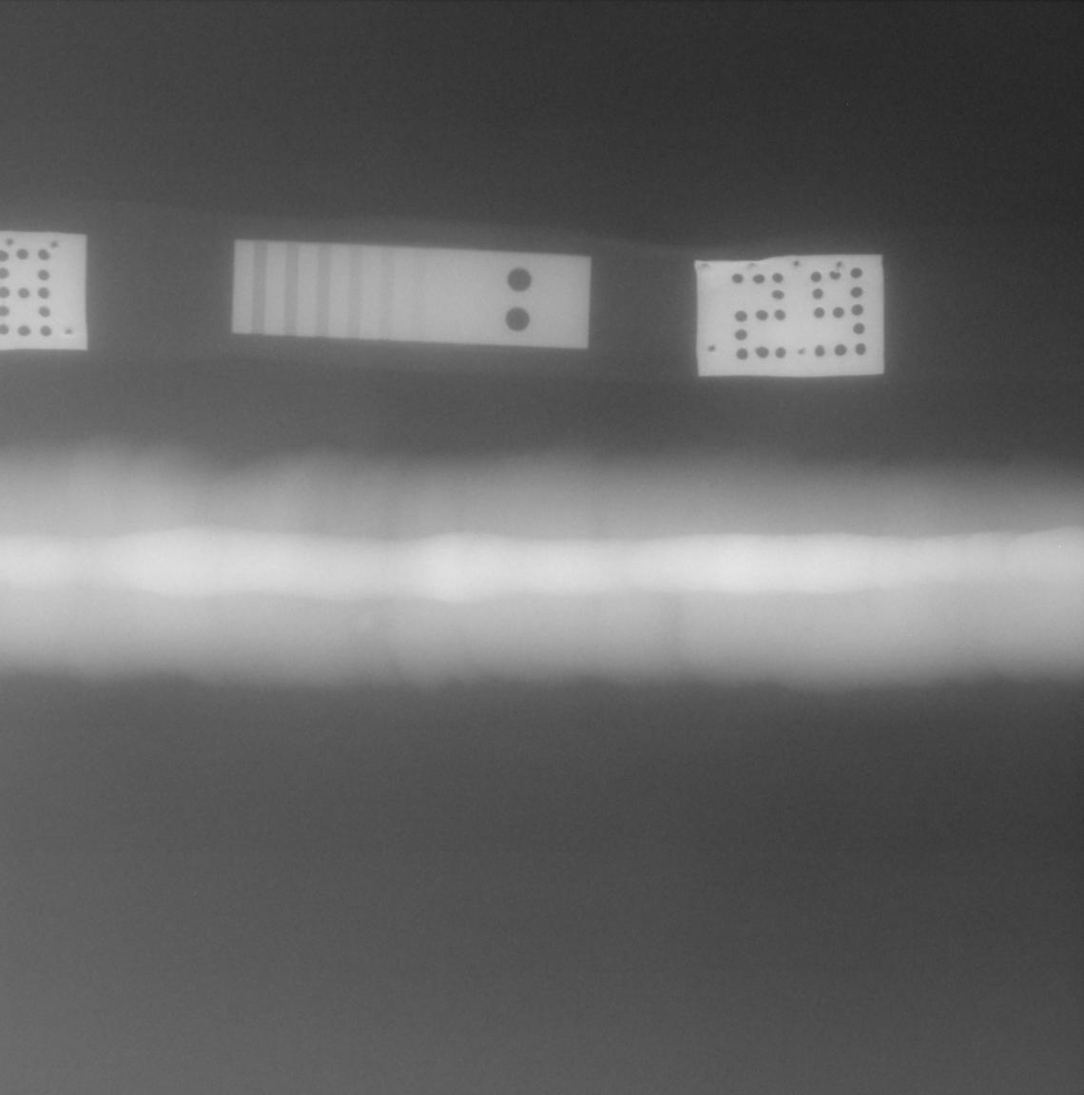Reference Standard 2: (231, 240, 591, 348)
